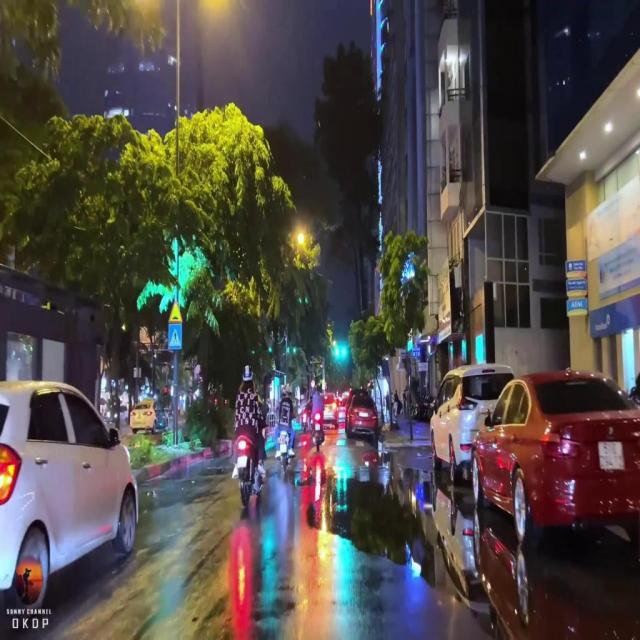duong_co_song_map_mo_nhan_tao: (168, 298, 183, 323)
duong_nguoi_di_bo_sang_ngang: (169, 324, 181, 349)
